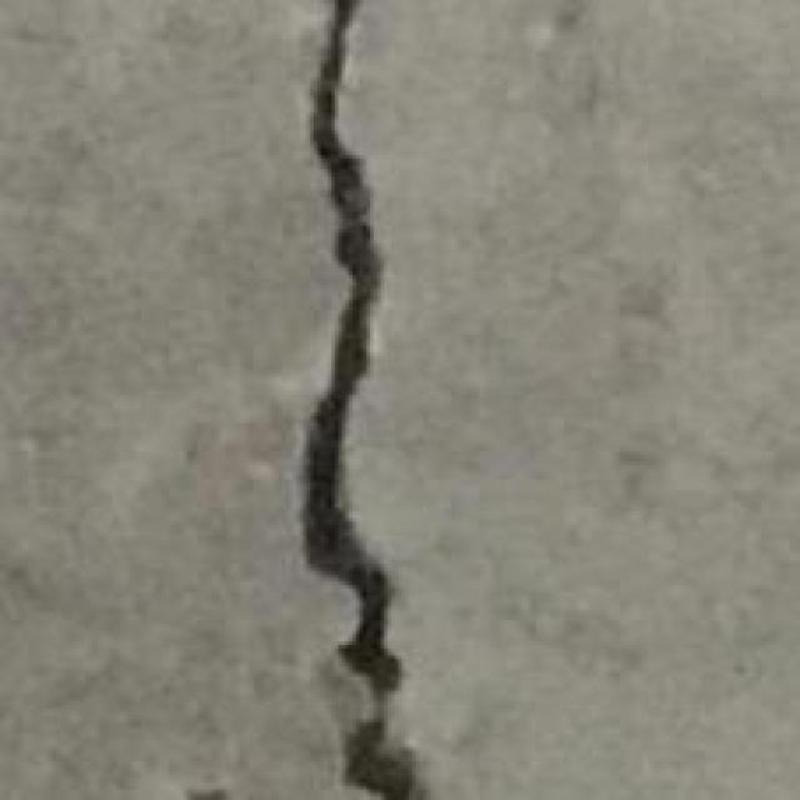pothole: (302, 0, 426, 799)
